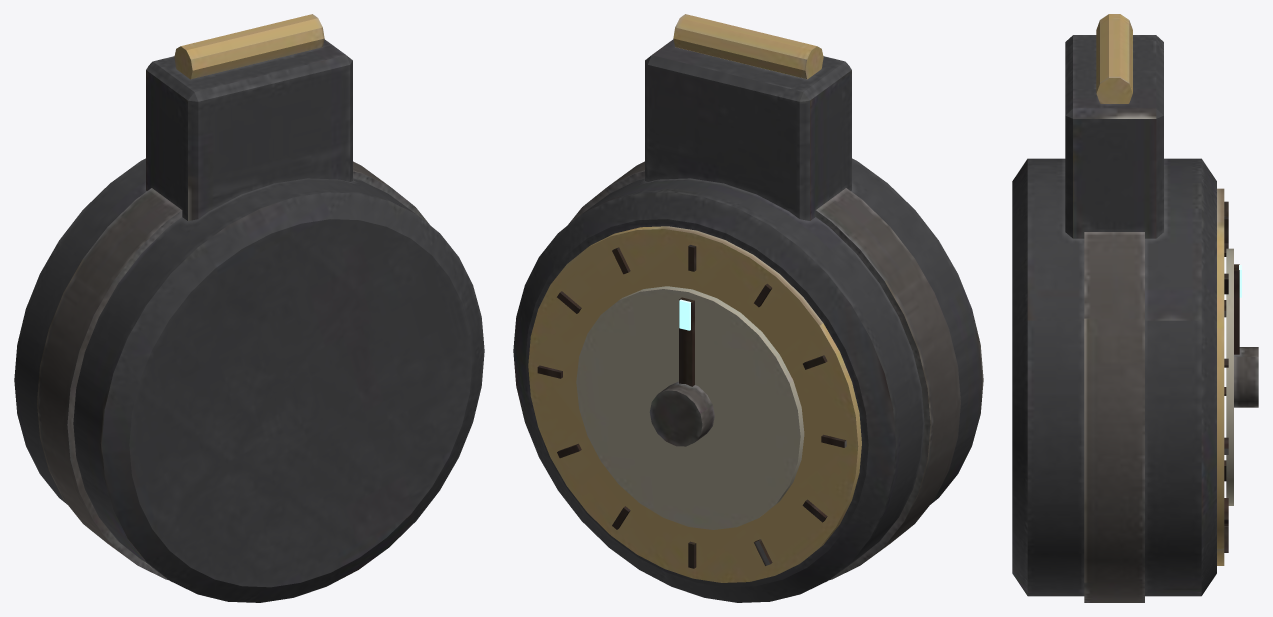
File: echo_drum.glb
3 views of the same model, side by side, from view 1: azimuth 30°, elevation 25°; view 2: azimuth 150°, elevation 25°; view 3: azimuth 270°, elevation 25° (orthographic).
Parts seen in each view (by area): view 1: echo_drum; view 2: echo_drum, Dial; view 3: echo_drum, Dial.
Part boxes in pixels (<box>): echo_drum: <box>14,14,484,602</box>; echo_drum: <box>513,14,983,602</box>; Dial: <box>576,286,804,529</box>; echo_drum: <box>1012,14,1228,602</box>; Dial: <box>1226,248,1258,505</box>.
Bounding box in the file's own units: 0.1196 × 0.1564 × 0.065.
2 materials, 1 textured.
